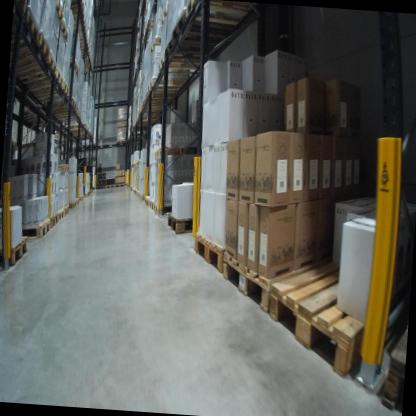pallet: (262, 220, 415, 382), (219, 237, 350, 323), (376, 314, 408, 414), (170, 12, 245, 49), (10, 28, 56, 86), (13, 51, 60, 98), (184, 0, 255, 28), (154, 51, 217, 79), (163, 35, 218, 67), (191, 230, 228, 277), (19, 64, 65, 99), (28, 75, 73, 104), (166, 207, 205, 239), (12, 7, 42, 44), (0, 236, 29, 271), (147, 73, 190, 96), (20, 217, 51, 241), (47, 95, 77, 118), (174, 146, 205, 162), (153, 201, 174, 221), (153, 143, 174, 162), (52, 0, 65, 28), (159, 4, 173, 28), (13, 0, 28, 22), (66, 121, 89, 135), (61, 18, 71, 44), (68, 60, 81, 76), (56, 163, 71, 176), (150, 36, 162, 52), (49, 211, 58, 230), (148, 198, 156, 214), (55, 207, 64, 221), (143, 193, 151, 208), (94, 184, 107, 193), (115, 180, 125, 190), (106, 182, 116, 191), (63, 204, 70, 216), (67, 200, 77, 208), (115, 138, 126, 145), (76, 195, 85, 203), (76, 198, 80, 207)
